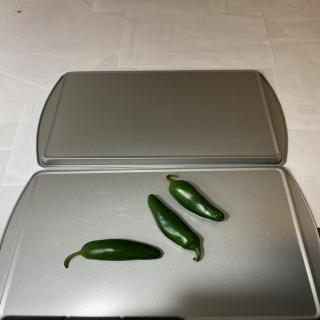Chilli: (147, 193, 201, 262), (166, 174, 225, 222)
Tomato: (64, 238, 162, 268)
